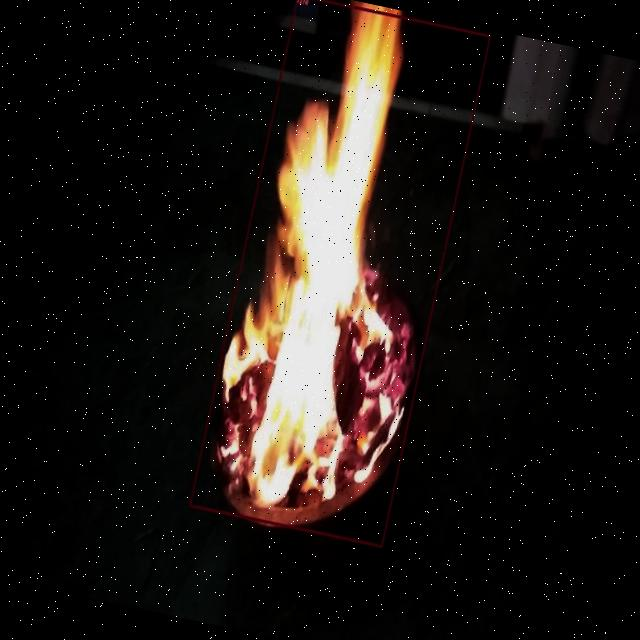fire: (187, 0, 490, 547)
